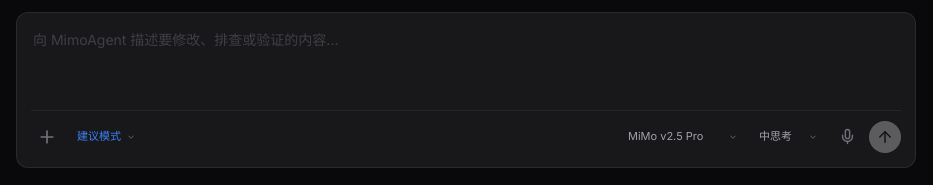
Test: InputArea › enables send button when input has non-whitespace text
The width and height of the screenshot is (933, 185).
Type "hello" into the text box.
click(466, 66); type("hello")  # box [31,27,901,104]
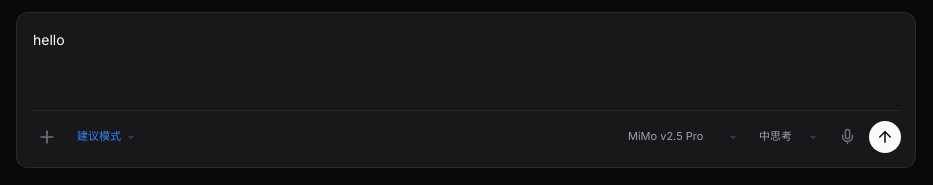
Check: the button named "发送" is enabled, box [869,120,901,152]
